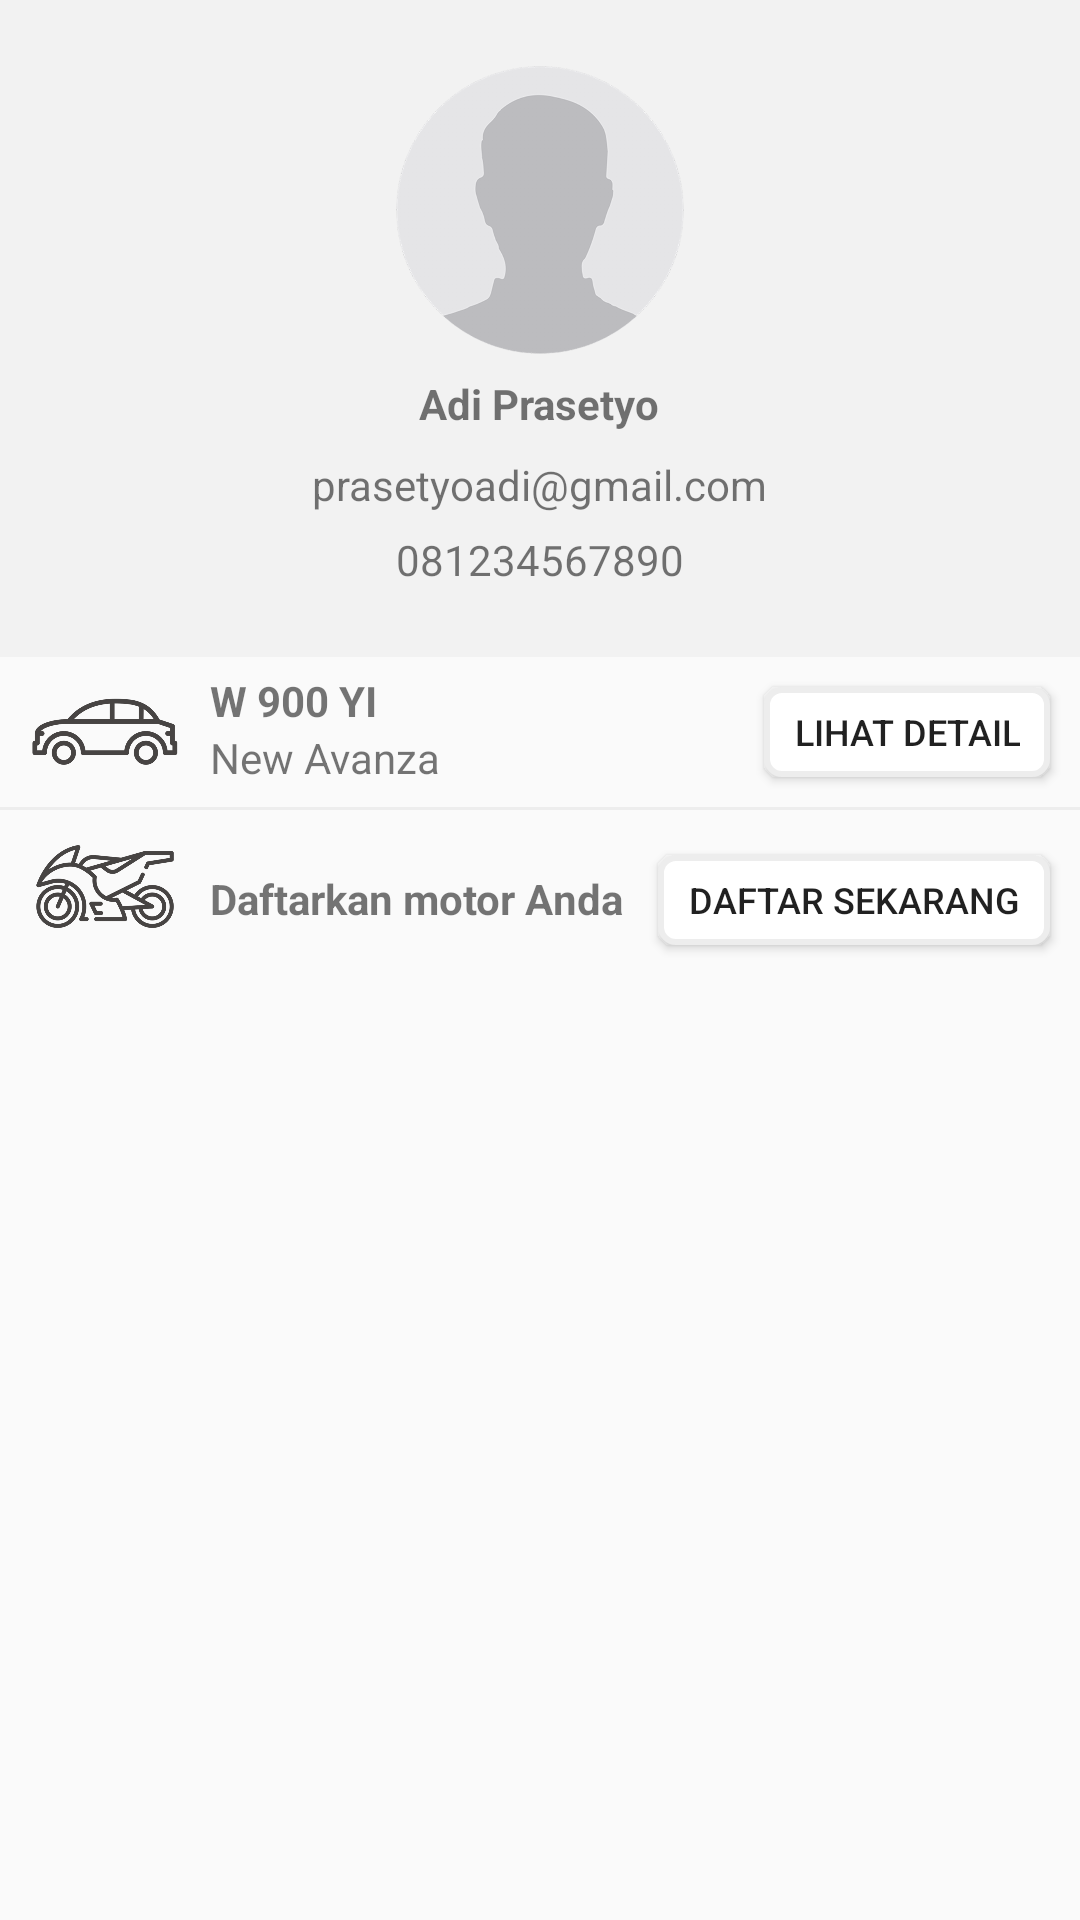

Icons on this 1080px x 1920px Android screen, each with the point to tap as (x,y):
car: (105,732)
